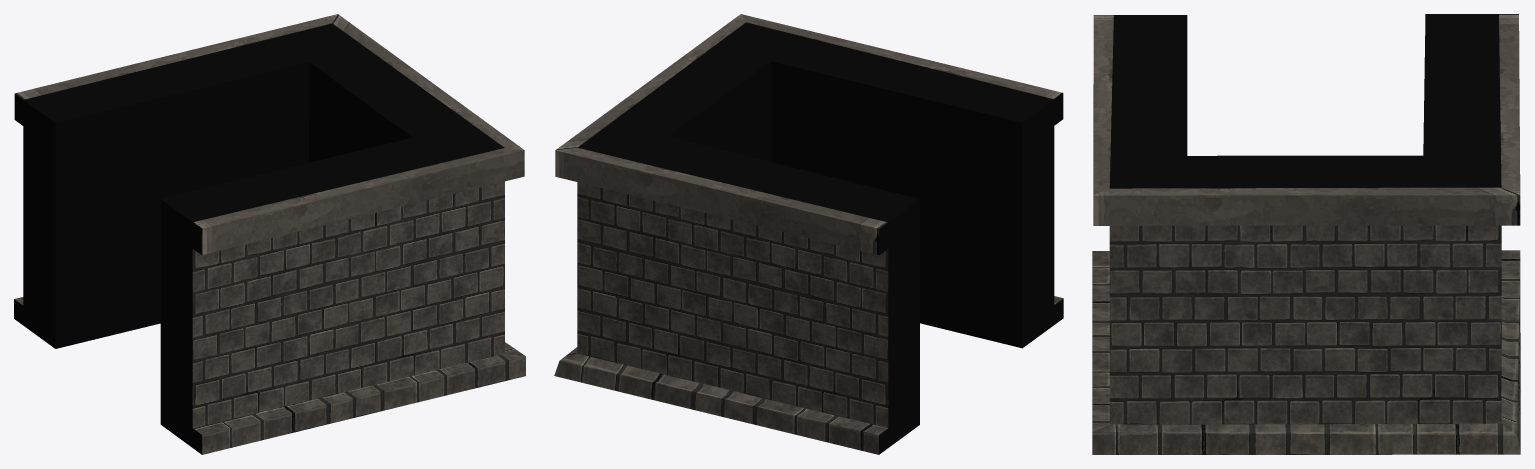
Rendered from ModularWallCorner02.fbx.
3 renders of one model, left to right at view 1: azimuth 30°, elevation 25°; view 2: azimuth 150°, elevation 25°; view 3: azimuth 270°, elevation 25°, orthographic. The views are drawn at different scales.
Visible parts, largest first — view 1: Plane; view 2: Plane; view 3: Plane.
Boxes of the visible parts, x1,y1,x2,y2 form: Plane: (14,14,525,454); Plane: (554,14,1063,454); Plane: (1092,14,1520,454).
Size of the model in its own units: 3.01 by 2 by 3.
1 material, 1 textured.
